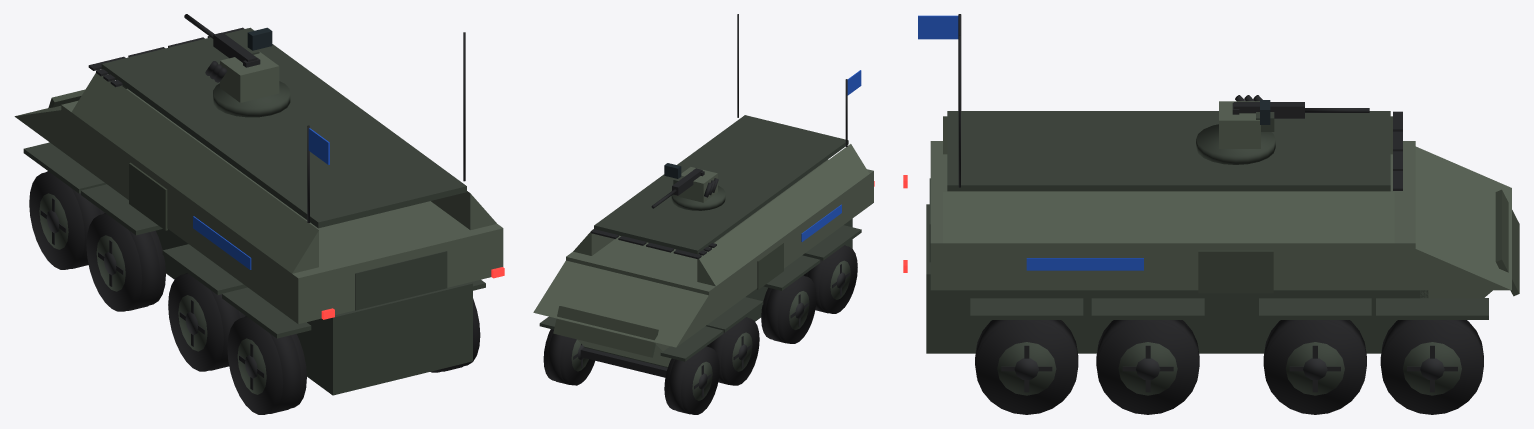
File: APC_Blue.fbx
3 views of the same model, side by side, from view 1: azimuth 30°, elevation 25°; view 2: azimuth 150°, elevation 25°; view 3: azimuth 270°, elevation 25° (orthographic). The views are drawn at different scales.
Visible parts, largest first — view 1: Roof, UpperHull, SideSlopeL, LowerHull, RearDoor, TyreL4, TyreL2, TyreL3, TyreL1, RWSBox, MudguardL3, MudguardL2 (+19 smaller); view 2: Roof, UpperHull, Glacis, SideSlopeL, TrimVane, TyreL1, TyreL3, TyreL4, TyreL2, TyreR1, MudguardL0, Axle1 (+20 smaller); view 3: Roof, SideSlopeR, UpperHull, LowerHull, Glacis, TyreR4, TyreR2, TyreR1, TyreR3, SideDoorPanelR, MudguardR2, MudguardR3 (+17 smaller).
Part boxes in pixels (x1,y1,x2,y2): Roof: [101, 27, 466, 228]; UpperHull: [61, 88, 503, 324]; SideSlopeL: [71, 69, 318, 273]; LowerHull: [156, 229, 472, 395]; RearDoor: [355, 251, 447, 310]; TyreL4: [227, 317, 306, 414]; TyreL2: [86, 213, 165, 311]; TyreL3: [168, 273, 245, 371]; TyreL1: [29, 172, 104, 269]; RWSBox: [220, 51, 279, 102]; MudguardL3: [222, 287, 311, 338]; MudguardL2: [162, 244, 247, 294]; Roof: [594, 115, 848, 254]; UpperHull: [566, 159, 873, 322]; Glacis: [533, 260, 712, 347]; SideSlopeL: [697, 144, 869, 286]; TrimVane: [553, 306, 658, 357]; TyreL1: [664, 346, 719, 414]; TyreL3: [761, 276, 816, 343]; TyreL4: [804, 245, 857, 313]; TyreL2: [707, 317, 759, 385]; TyreR1: [543, 329, 594, 385]; MudguardL0: [660, 326, 723, 361]; Axle1: [580, 347, 667, 377]; Roof: [947, 111, 1390, 191]; SideSlopeR: [943, 192, 1394, 243]; UpperHull: [930, 141, 1415, 290]; LowerHull: [926, 204, 1428, 353]; Glacis: [1403, 146, 1511, 290]; TyreR4: [975, 320, 1077, 414]; TyreR2: [1264, 320, 1366, 414]; TyreR1: [1381, 320, 1483, 414]; TyreR3: [1097, 320, 1198, 414]; SideDoorPanelR: [1198, 250, 1273, 293]; MudguardR2: [1091, 298, 1204, 319]; MudguardR3: [970, 298, 1083, 319].
Bounding box in the file's own units: 295 × 737 × 486.
